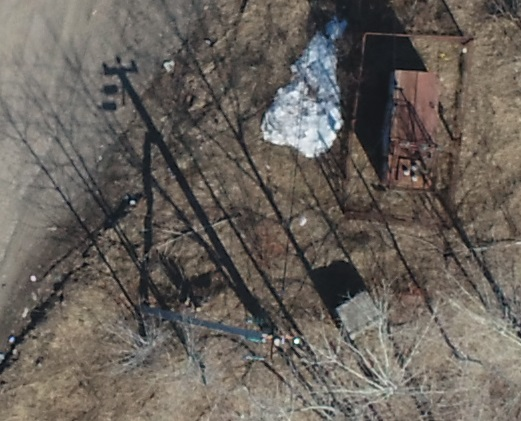opora: (134, 260, 307, 364)
